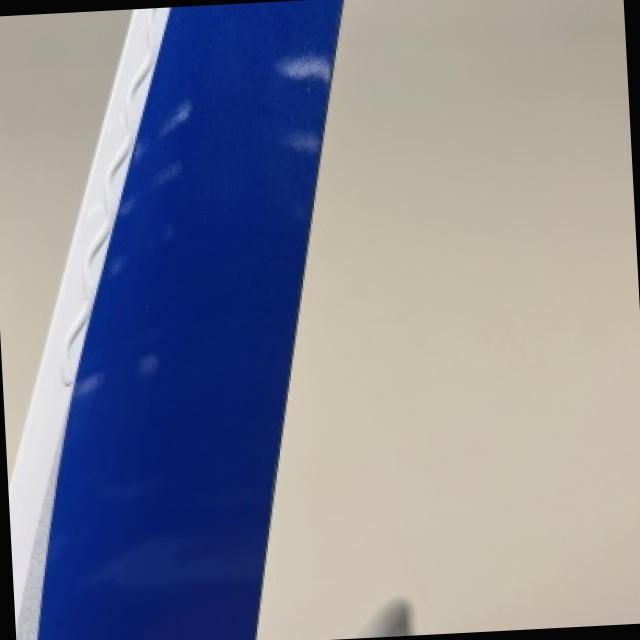healthy: (11, 0, 343, 640)
